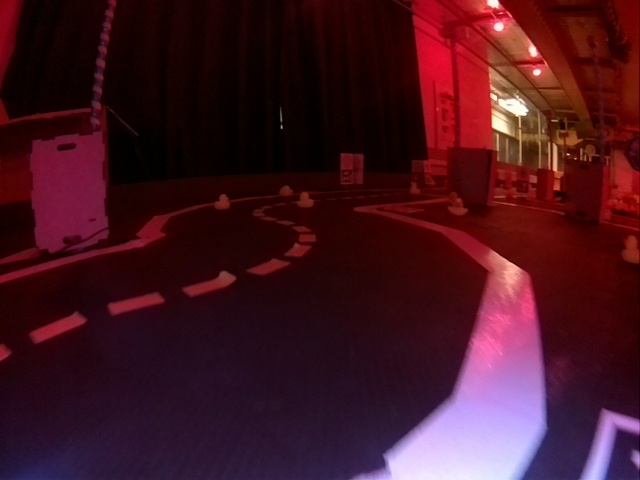Duckie: (622, 236, 639, 261), (448, 199, 468, 215), (298, 192, 314, 207), (215, 195, 230, 208), (280, 185, 293, 195)
